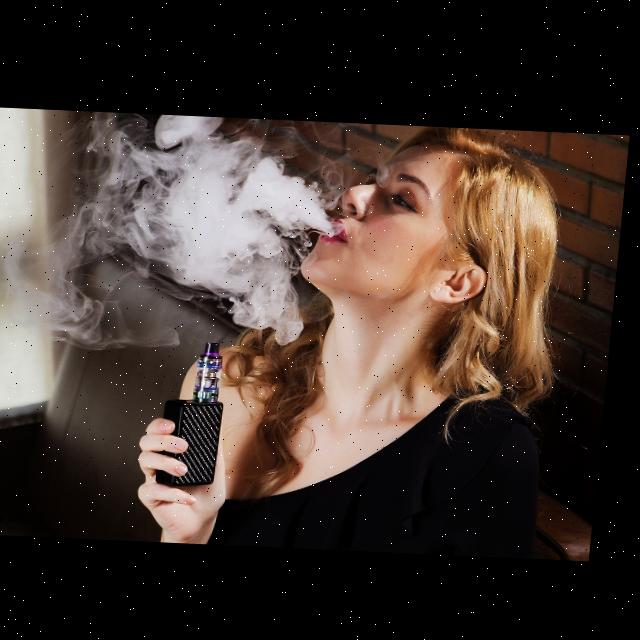vape: (164, 337, 238, 489)
